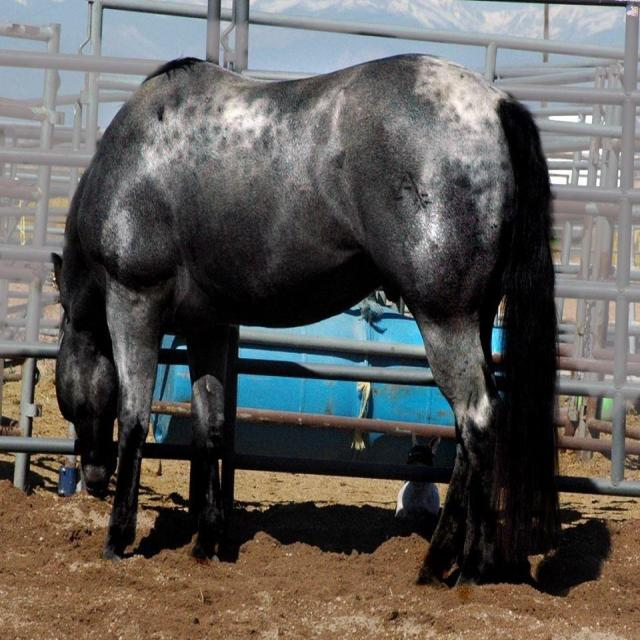horse: (50, 51, 561, 587)
